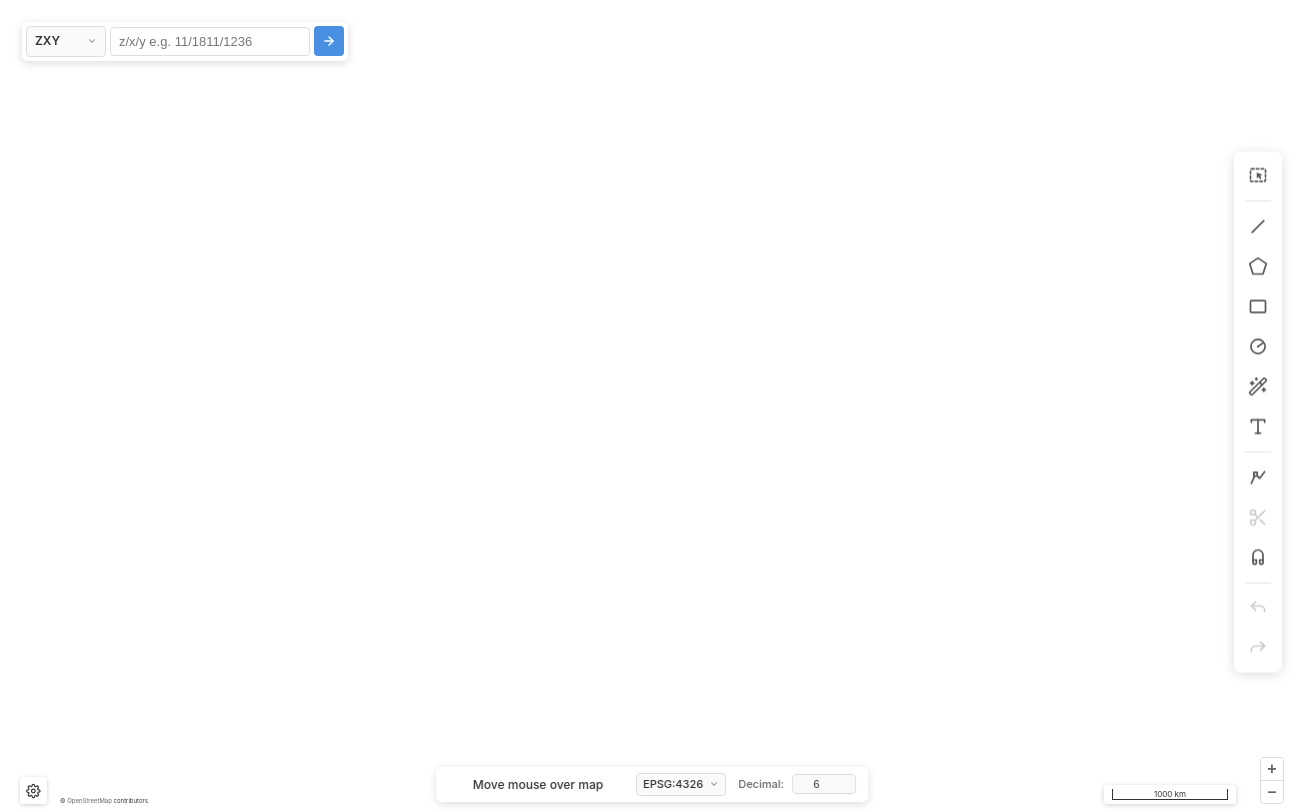
Scenario: the split-screen button in the settings footer enters comparison mode (auto-creating when alone)
// The split button lives inside the settings panel, next to the lock button
Click the button titled "Settings" at (33, 791), box [20,777,47,804]
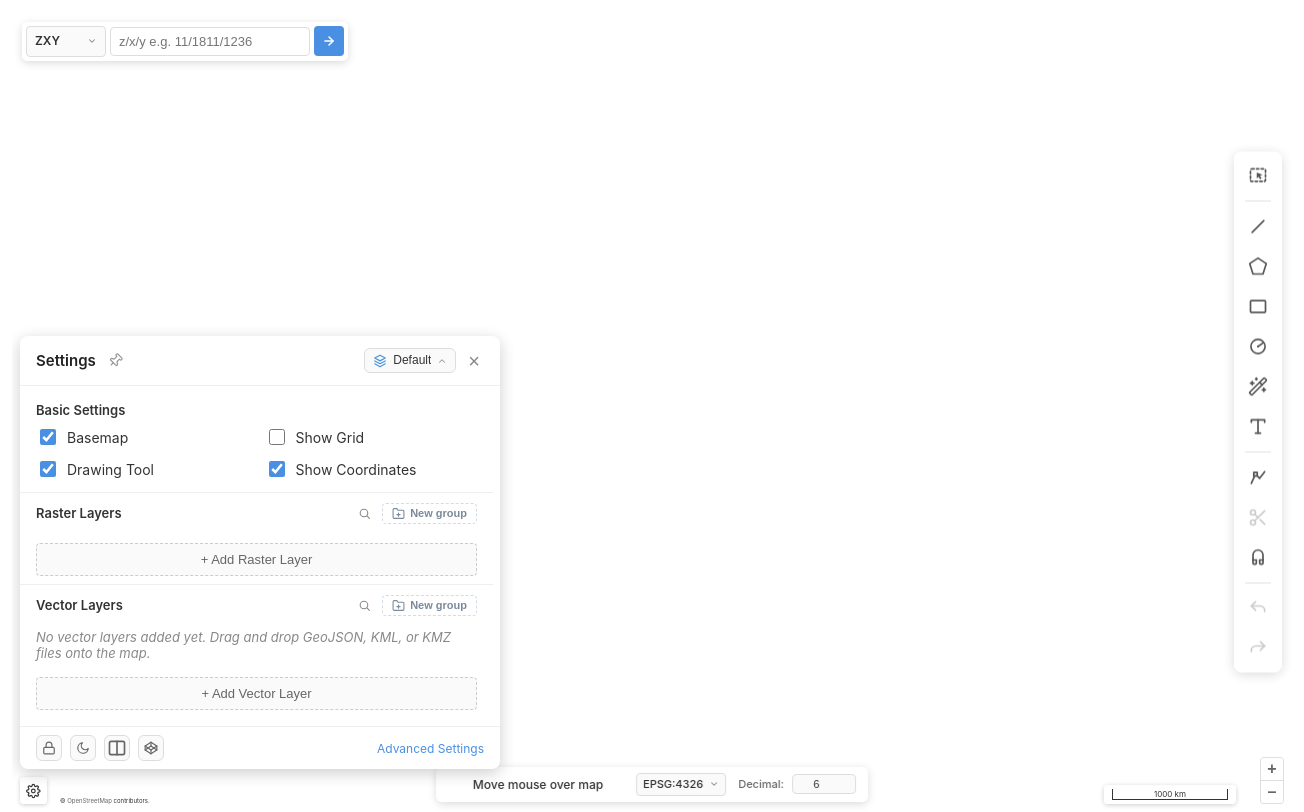
Expected: the element named "Split screen" is shown, [20,726,500,769]
Click the button named "Split screen" at (117, 748), box [104,735,130,761]
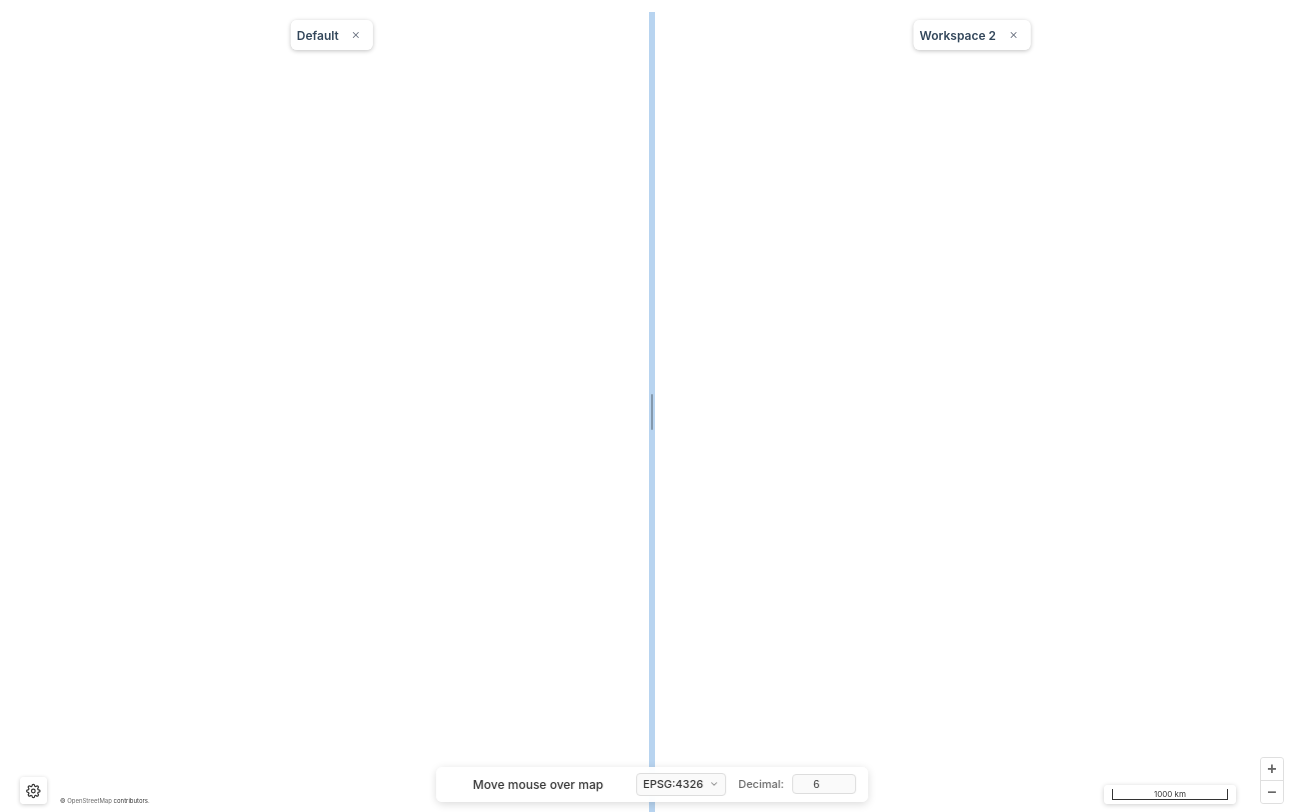
Expected: the element named "Drag to move the comparison divider" is shown, [649,12,655,811]
Expected: the text "Workspace 2" is shown, [920,28,996,42]
